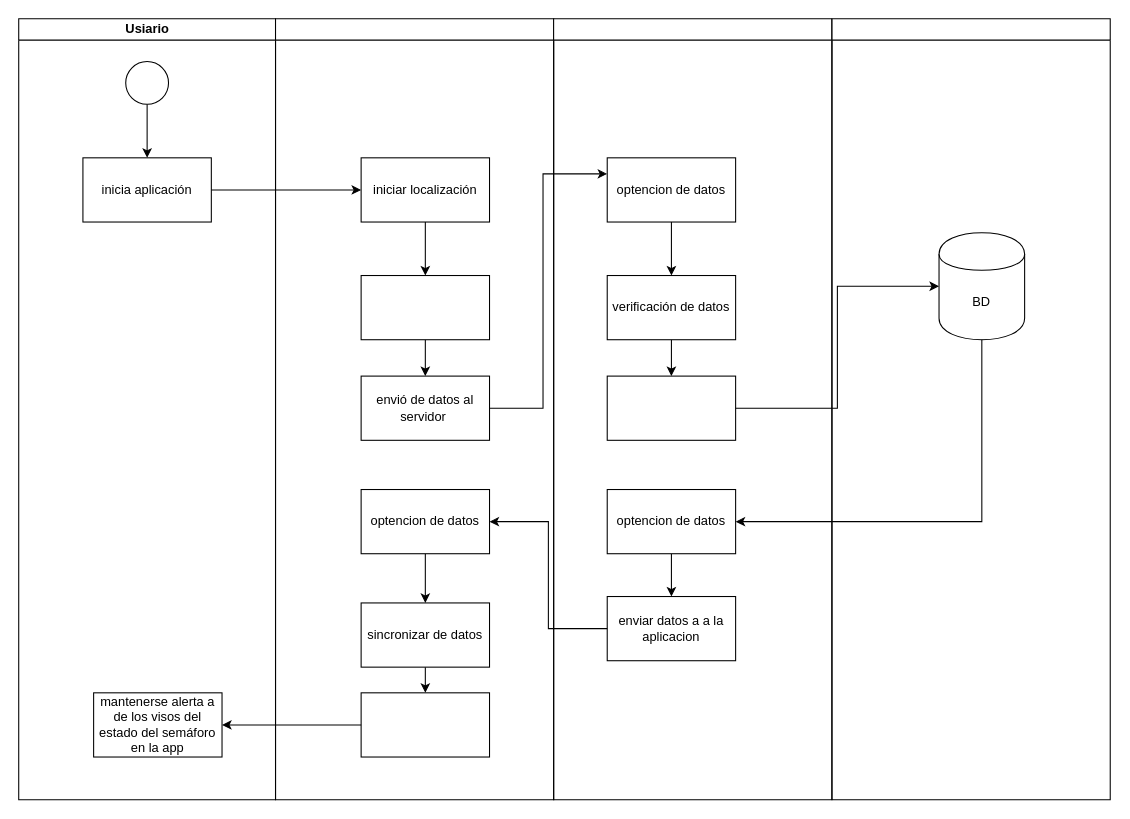
Some shapes in this 1130 by 819 pixel diagram are drawn without their labels. The box of each missing label's shape, as (x1, y1, x2, y2) in pixels:
Api: (553, 18, 832, 800)
Aplicación: (274, 18, 554, 800)
detección de ubicación: (360, 274, 490, 340)
mostrar datos del semáforo actual: (360, 692, 490, 757)
petición de los datos de los semáforos de la zona: (606, 375, 736, 440)
Servidor: (831, 18, 1110, 800)
